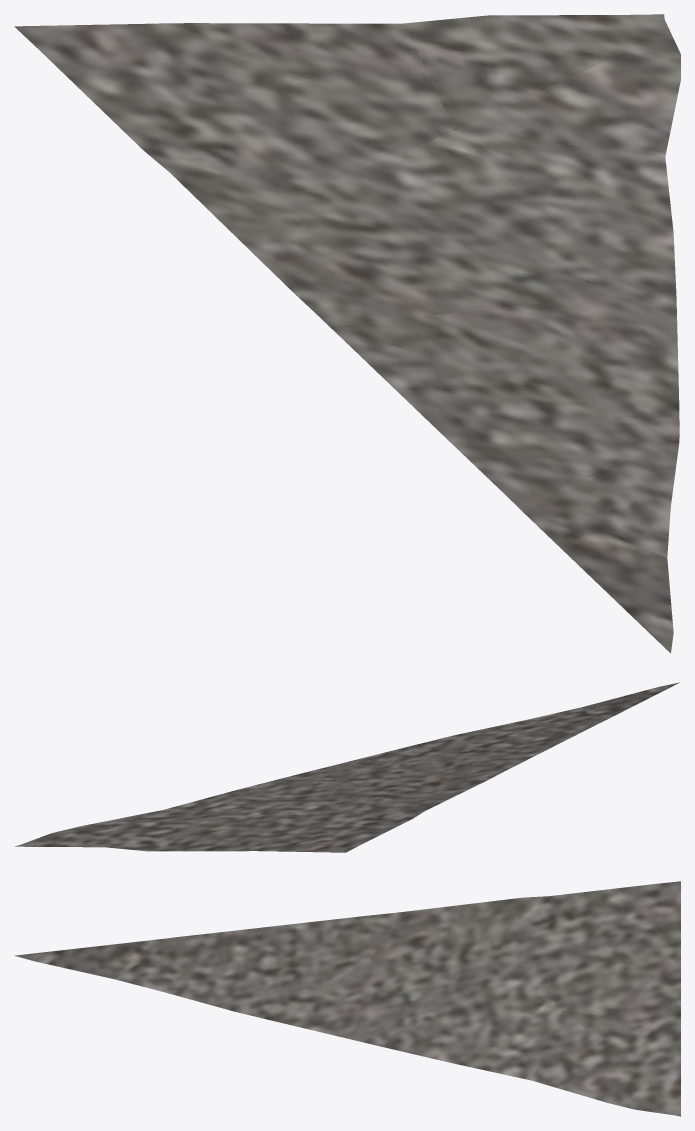
3 views of the same model, one above another, from view 1: azimuth 30°, elevation 25°; view 2: azimuth 150°, elevation 25°; view 3: azimuth 270°, elevation 25° (orthographic). The views are drawn at different scales.
Bounding box in the file's own units: 0.4424 × 0.0953 × 0.7742.
Materials: 1 (1 with a texture image).
